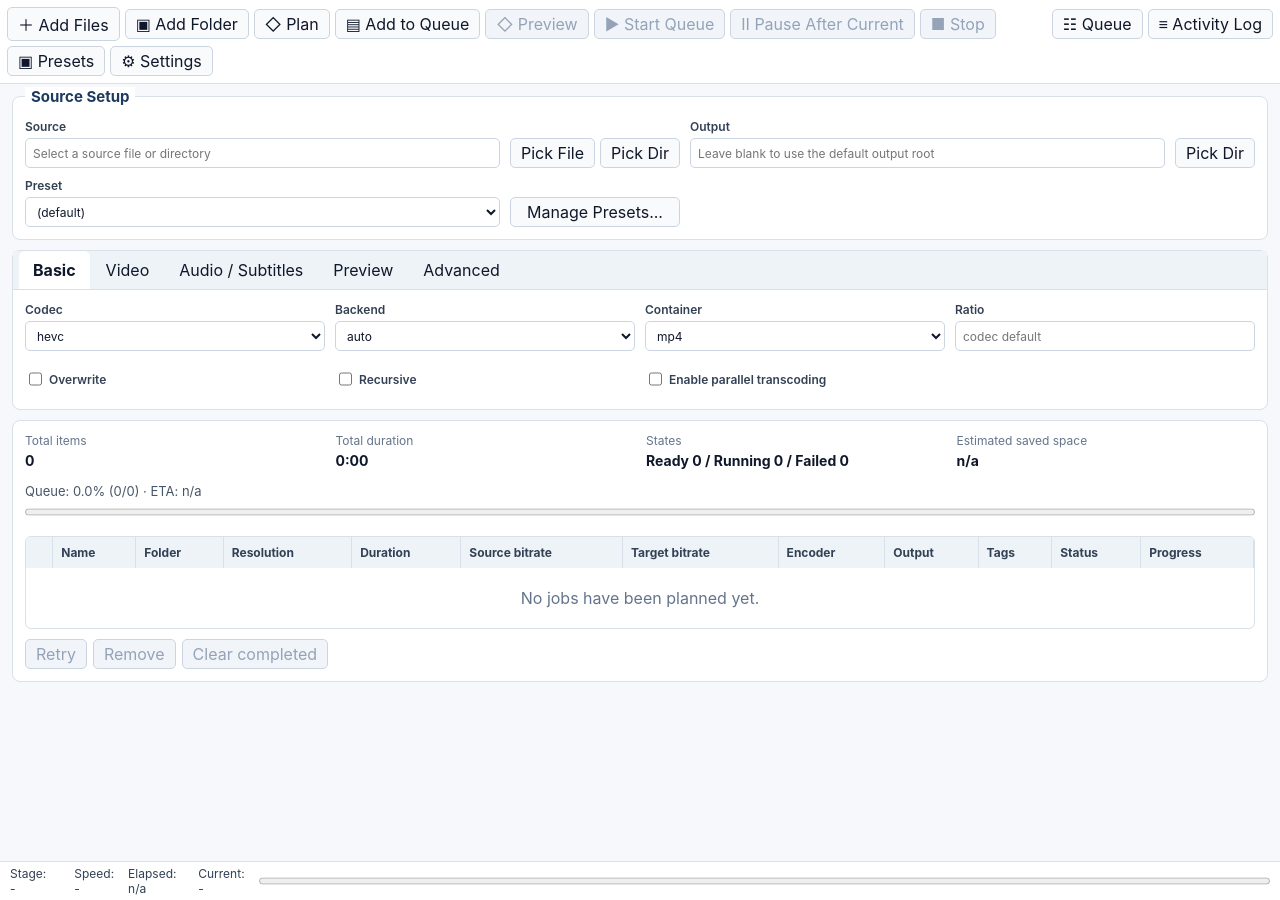
Test: recent path save failure keeps the successful plan and shows a warning
This screenshot has width=1280, height=900.
Type "/videos/source.mp4" into the field with placeholder "Select a source file or directory" at (262, 153), box x1=25 y1=138 x2=500 y2=168
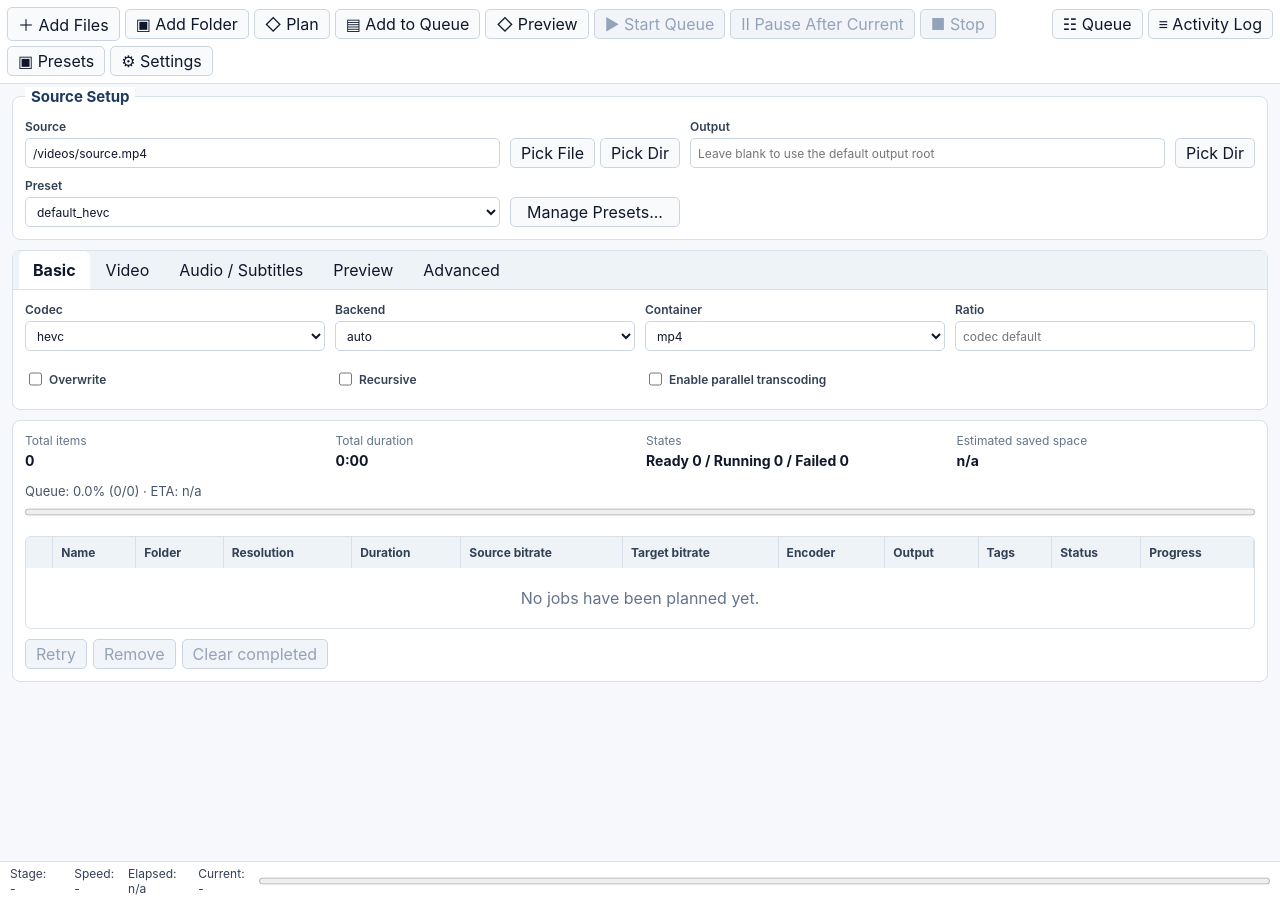
Click the button "◇ Plan" at (292, 24), box x1=254 y1=9 x2=330 y2=39
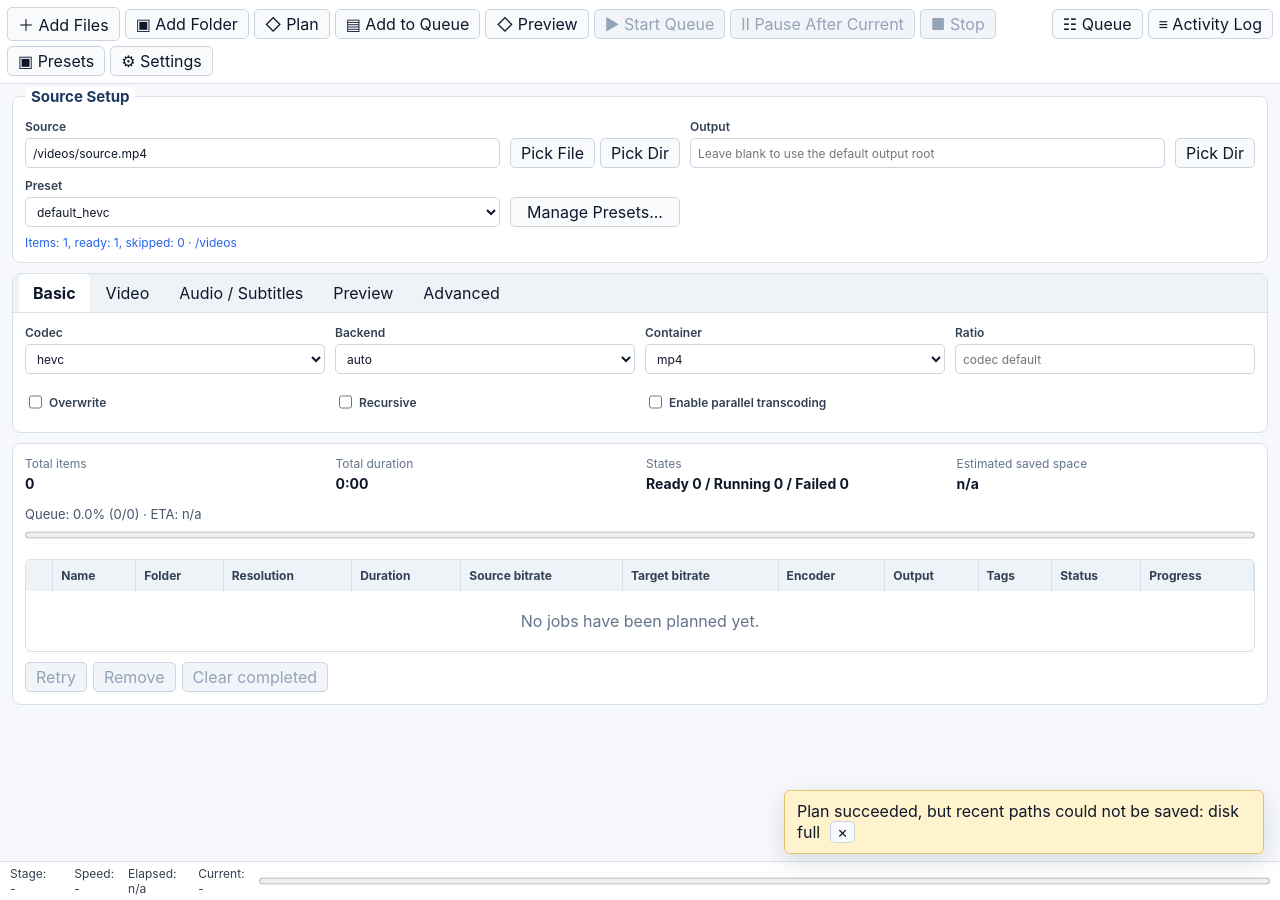
Check: the text "Items: 1, ready: 1, skipped: 0 · /videos" is shown, box x1=25 y1=235 x2=237 y2=250
Check: the message shows "disk full", box x1=797 y1=801 x2=1239 y2=842
